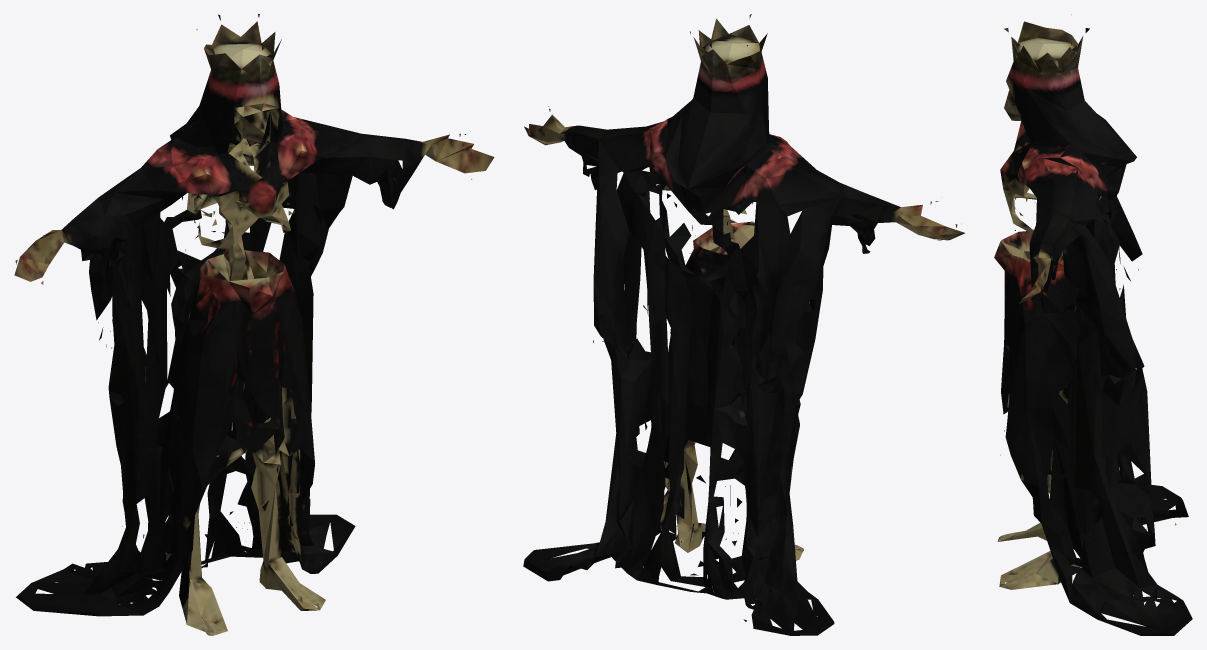
Rendered from lich_king.gltf.
3 views of the same model, side by side, from view 1: azimuth 30°, elevation 25°; view 2: azimuth 150°, elevation 25°; view 3: azimuth 270°, elevation 25° (orthographic). The views are drawn at different scales.
Parts seen in each view (by area): view 1: lich_king; view 2: lich_king; view 3: lich_king.
Boxes of the visible parts, <box> form: lich_king: <box>14,14,494,635</box>; lich_king: <box>523,14,965,635</box>; lich_king: <box>994,14,1192,635</box>.
Size of the model in its own units: 0.8731 by 1 by 0.3353.
Materials: 1 (1 with a texture image).
